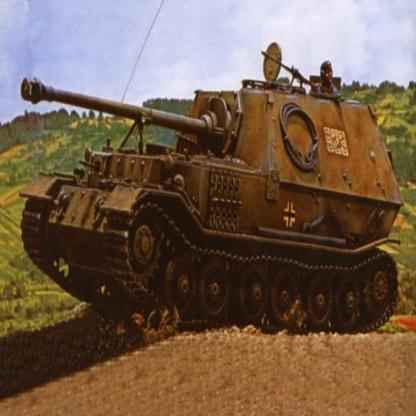Tank: (7, 43, 406, 344)
